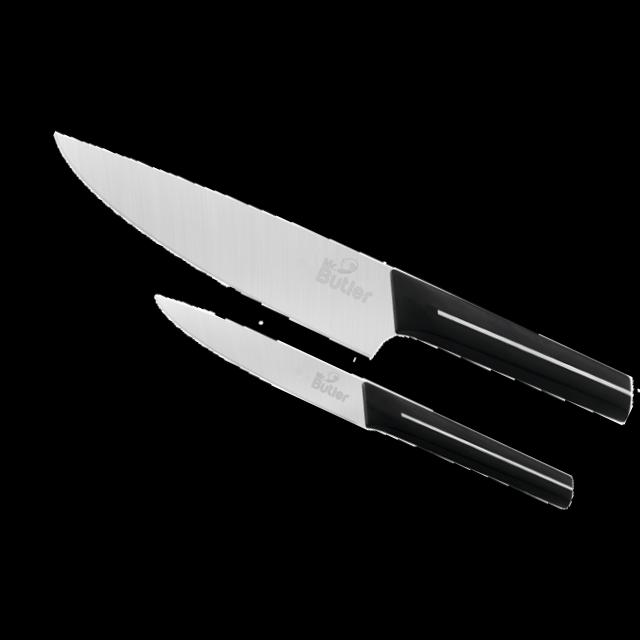Weapon: (23, 105, 640, 471), (143, 276, 600, 532)
